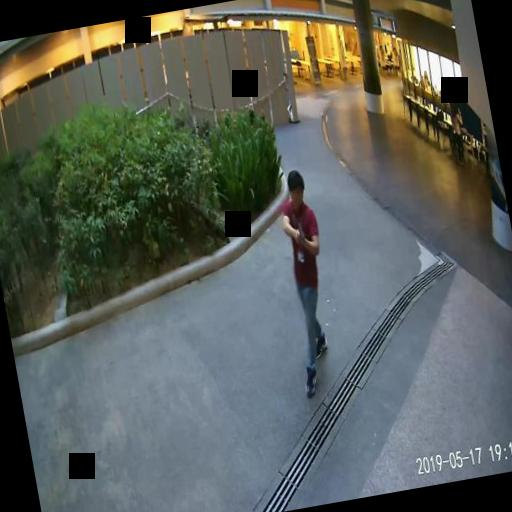Handgun: (292, 219, 304, 243)
